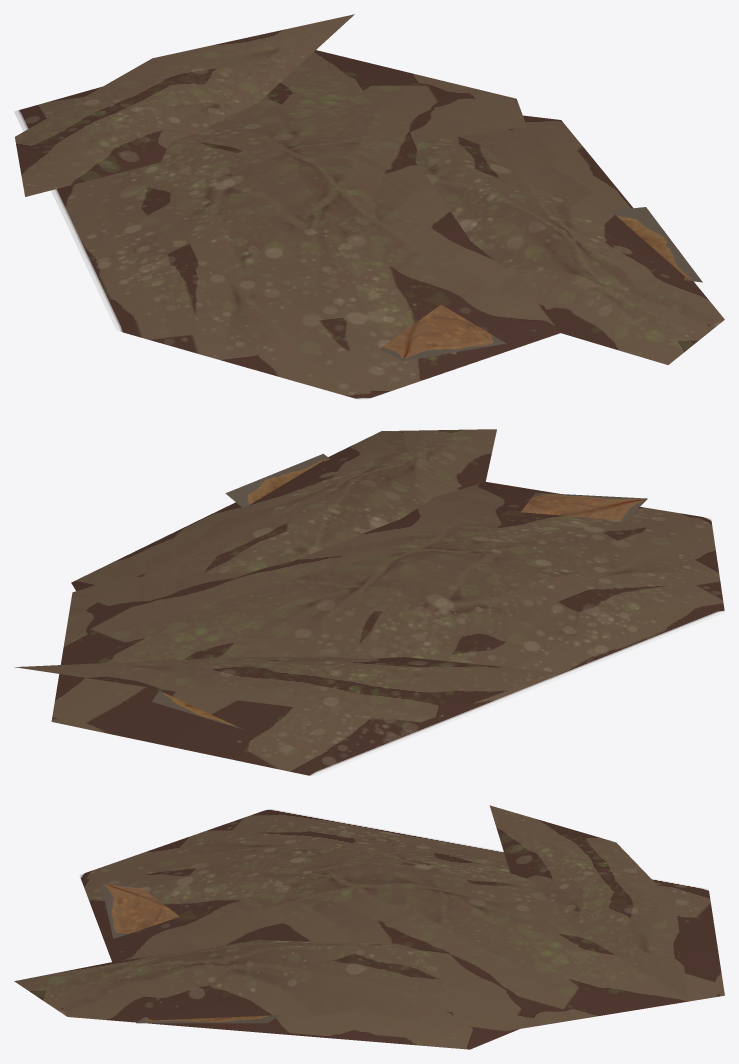
File: MSH_fwOF_WoodDebris_03.fbx
3 views of the same model, one above another, from view 1: azimuth 30°, elevation 25°; view 2: azimuth 150°, elevation 25°; view 3: azimuth 270°, elevation 25° (orthographic). The views are drawn at different scales.
Visible parts, largest first — view 1: MSH_fwOF_WoodDebris_03; view 2: MSH_fwOF_WoodDebris_03; view 3: MSH_fwOF_WoodDebris_03.
Boxes of the visible parts, x1=… form: MSH_fwOF_WoodDebris_03: x1=14, y1=14, x2=724, y2=400; MSH_fwOF_WoodDebris_03: x1=14, y1=429, x2=724, y2=776; MSH_fwOF_WoodDebris_03: x1=14, y1=805, x2=724, y2=1049.
Size of the model in its own units: 0.5649 by 0.06 by 0.748.
